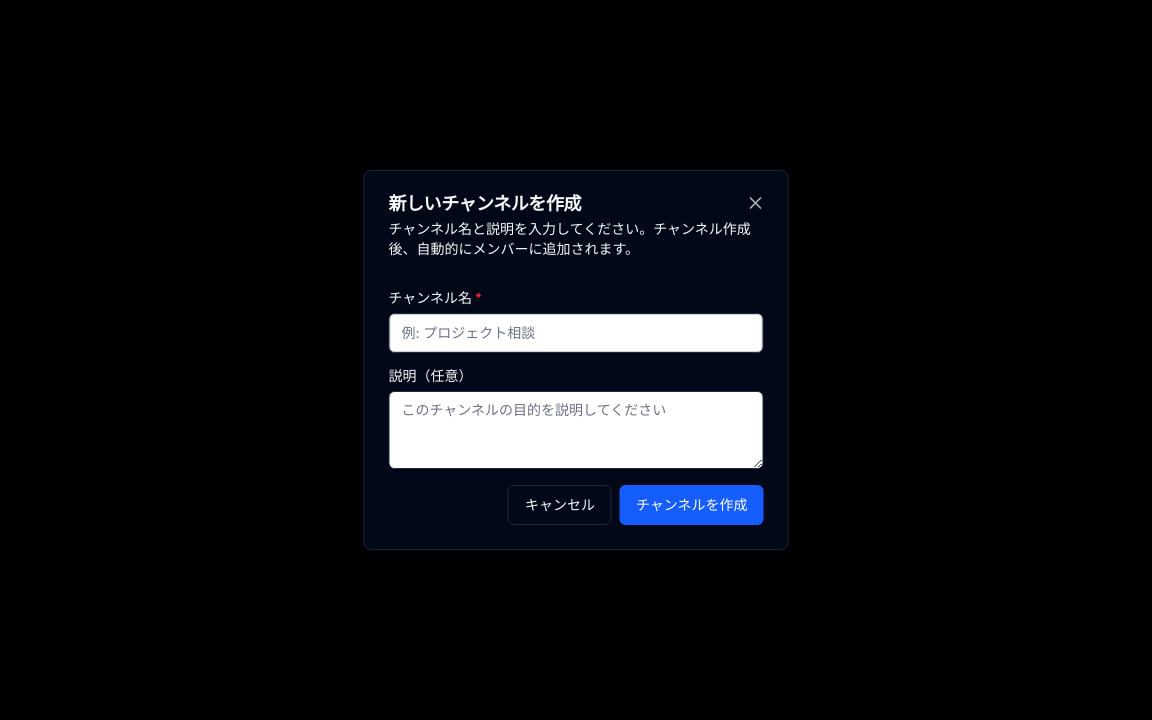
Test: CreateChannelDialog - チャンネル作成ダイアログ › バリデーション › チャンネル名が空の場合、エラーメッセージが表示される
Click the button "チャンネルを作成".
click(692, 505)  # box top-left (620, 485), bottom-right (764, 525)
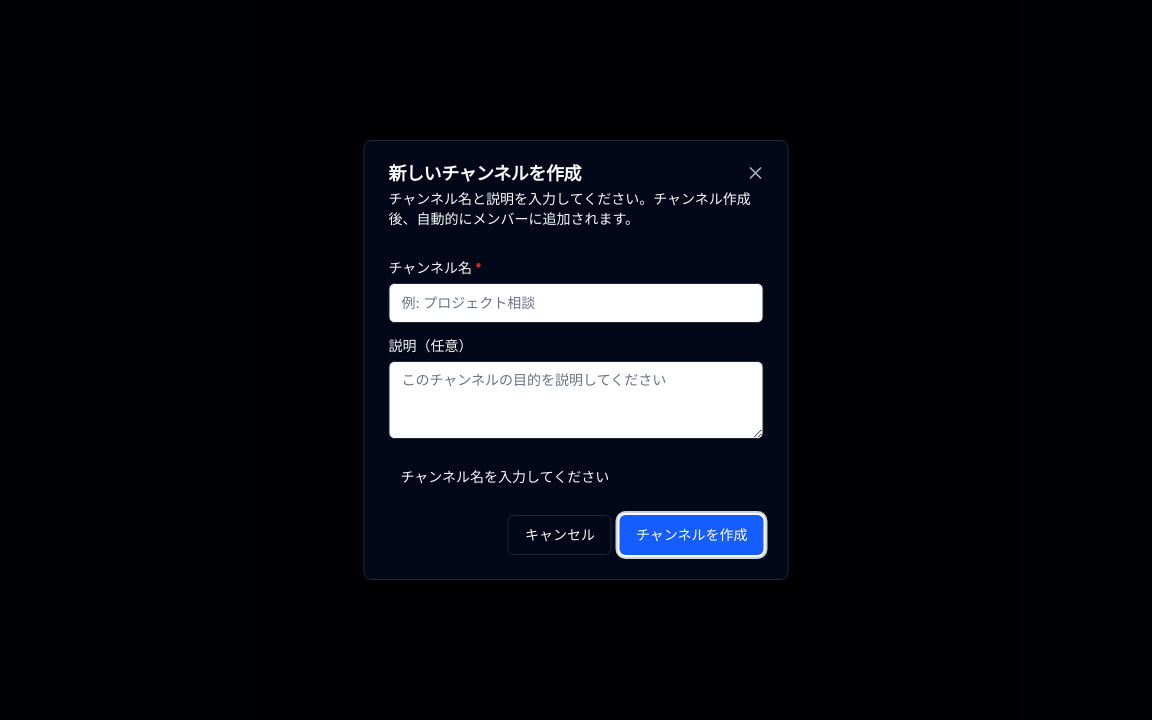
Expected: the text "チャンネル名を入力してください" is shown, top-left (400, 468), bottom-right (609, 486)
